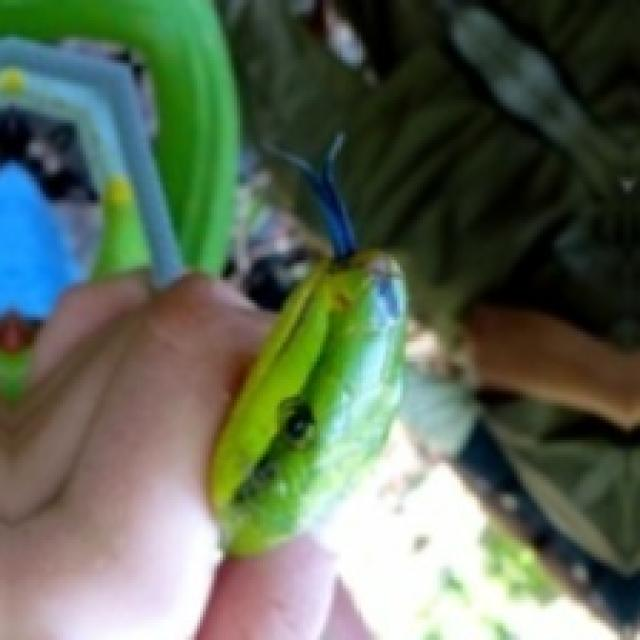red-tailed green ratsnake: (209, 251, 403, 551)
